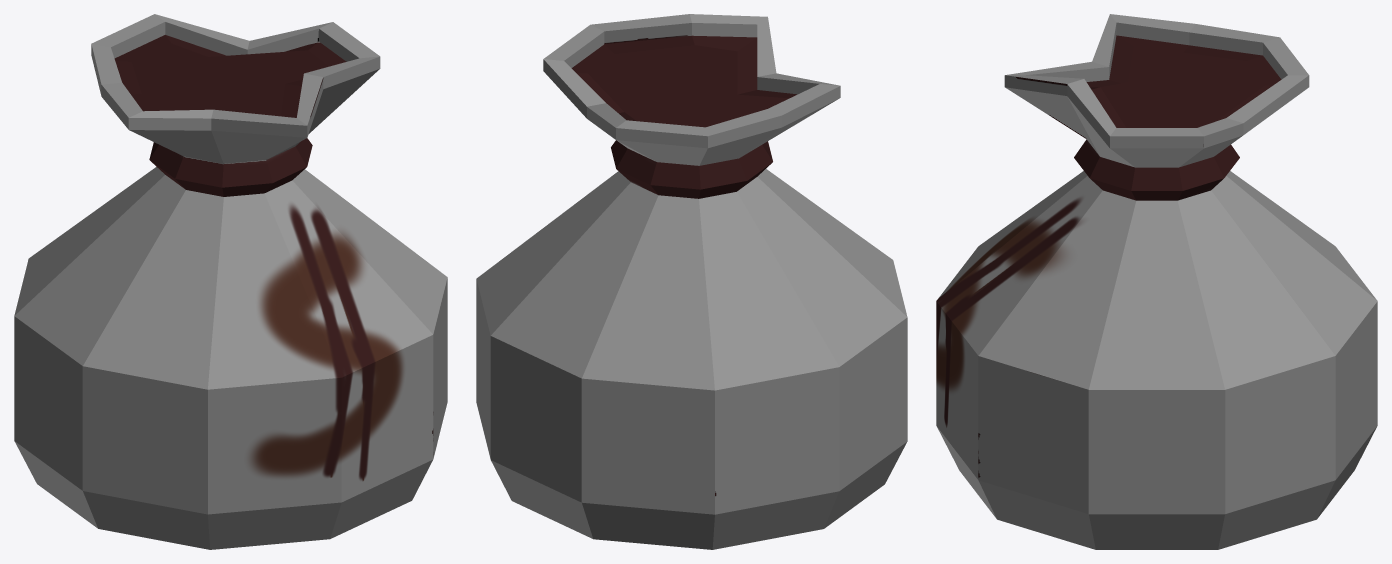
Rendered from dinheiro.glb.
The picture shows the model from 3 angles, left to right: view 1: azimuth 30°, elevation 25°; view 2: azimuth 150°, elevation 25°; view 3: azimuth 270°, elevation 25°; orthographic projection.
Visible parts, largest first — view 1: Cylinder; view 2: Cylinder; view 3: Cylinder.
Part boxes in pixels (x1=…): Cylinder: x1=14, y1=14, x2=447, y2=549; Cylinder: x1=476, y1=14, x2=907, y2=549; Cylinder: x1=936, y1=14, x2=1377, y2=549.
Bounding box in the file's own units: 1.9 × 2.05 × 2.
1 material, 1 textured.
